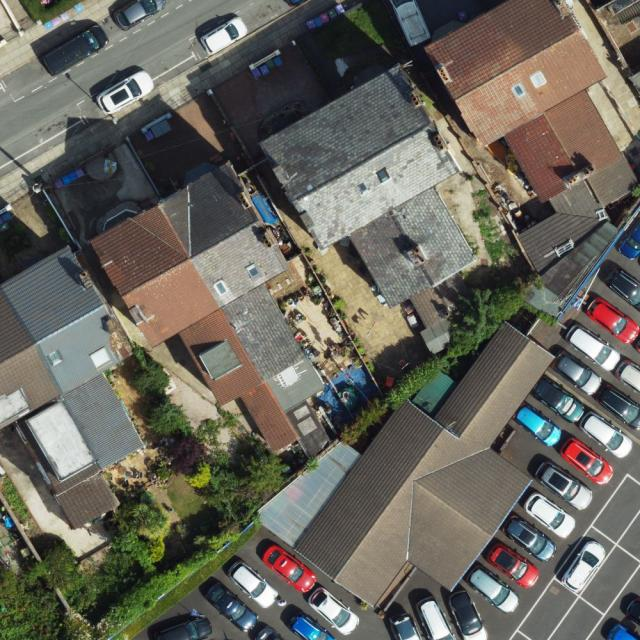roof: (292, 319, 556, 607), (97, 163, 328, 457), (426, 0, 640, 278), (261, 64, 477, 328), (0, 248, 148, 534)
skylight: (90, 343, 114, 371), (527, 69, 549, 89), (45, 347, 65, 367), (243, 262, 263, 281), (373, 165, 391, 186), (214, 278, 228, 299), (512, 83, 526, 97), (356, 181, 368, 195)
